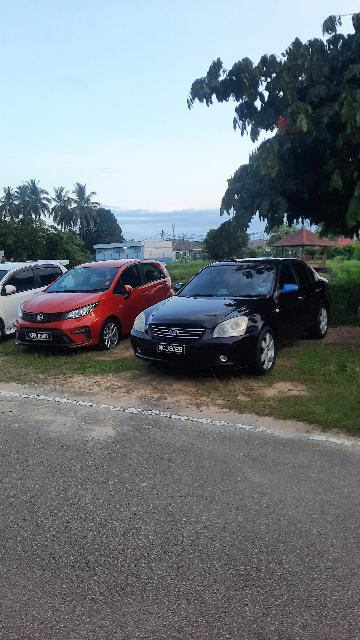License_Plate: (151, 339, 189, 357), (26, 332, 57, 345)
car: (131, 256, 335, 374), (13, 257, 176, 352)
